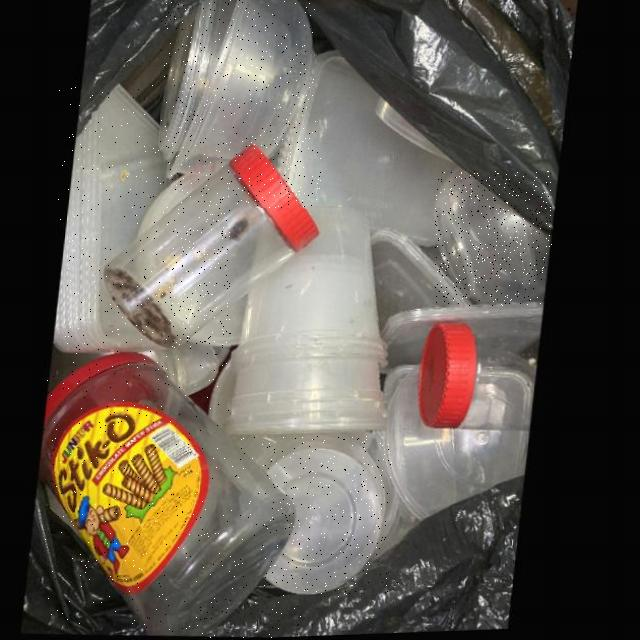plastic: (44, 352, 302, 638), (106, 146, 323, 350), (231, 209, 392, 436), (58, 84, 171, 354), (161, 0, 316, 178), (263, 436, 392, 597), (436, 172, 552, 306), (423, 322, 546, 435)
